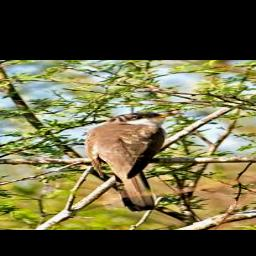Cuckoo: (83, 112, 184, 211)
